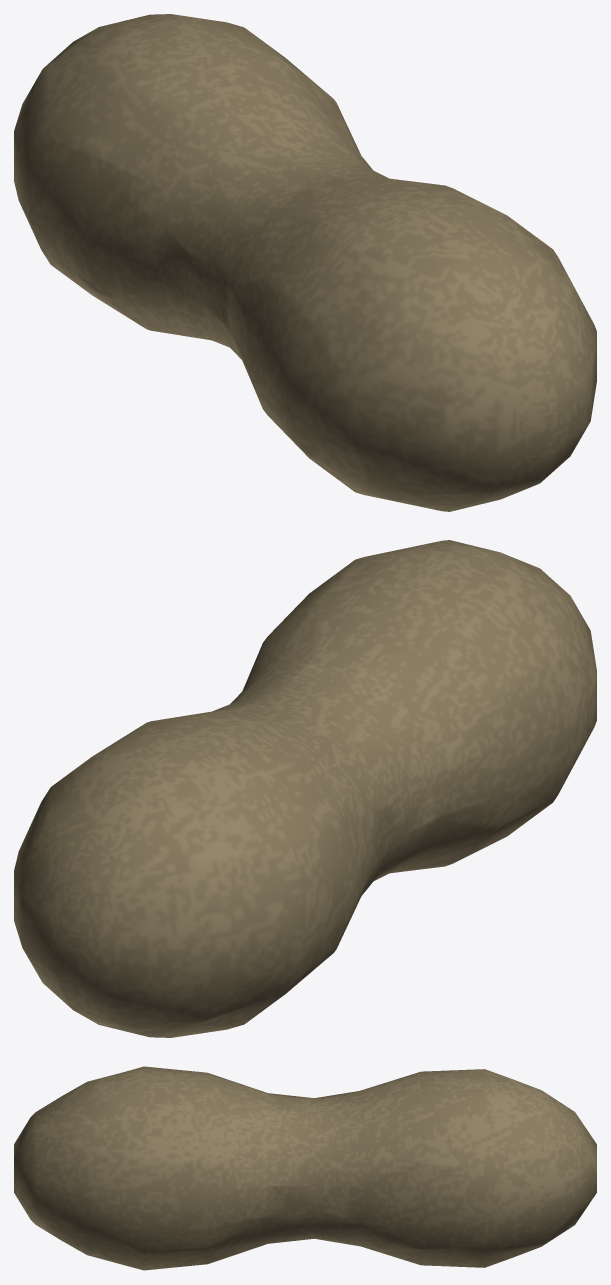
Rendered from nuts.fbx.
3 views of the same model, one above another, from view 1: azimuth 30°, elevation 25°; view 2: azimuth 150°, elevation 25°; view 3: azimuth 270°, elevation 25° (orthographic). The views are drawn at different scales.
Parts seen in each view (by area): view 1: Erdnuss_lp; view 2: Erdnuss_lp; view 3: Erdnuss_lp.
Part boxes in pixels (box(x1,y1,x2,y2)): Erdnuss_lp: box(14, 14, 596, 511); Erdnuss_lp: box(14, 540, 596, 1037); Erdnuss_lp: box(14, 1066, 596, 1270).
Bounding box in the file's own units: 74.42 × 69.87 × 205.
